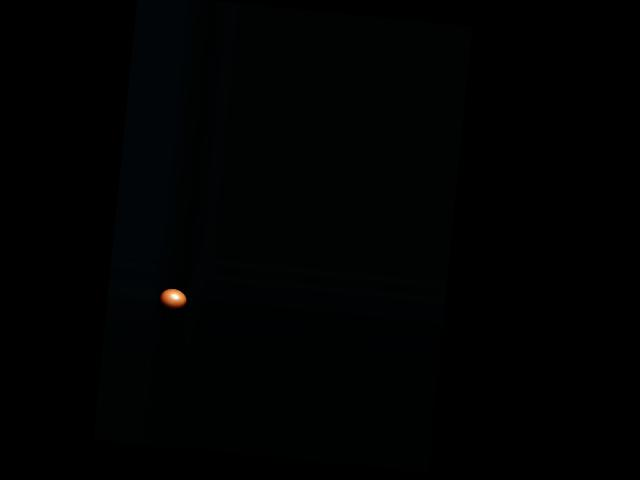egg: (158, 288, 187, 311)
